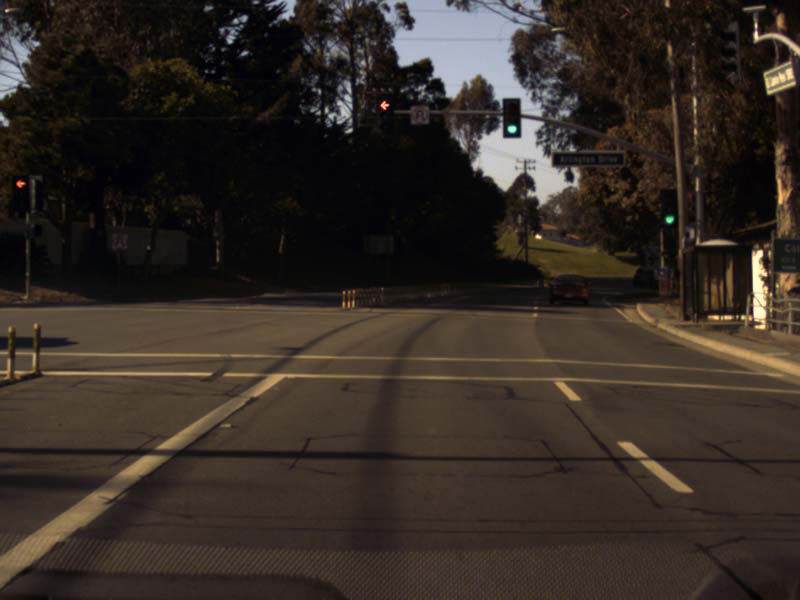Green: (659, 189, 678, 227), (502, 99, 520, 137)
Red: (11, 175, 29, 210), (377, 95, 393, 132)
